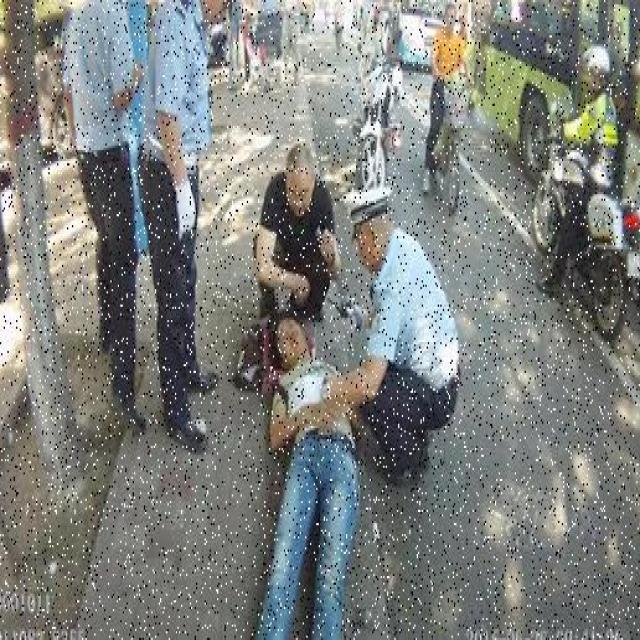fall: (266, 316, 362, 638)
